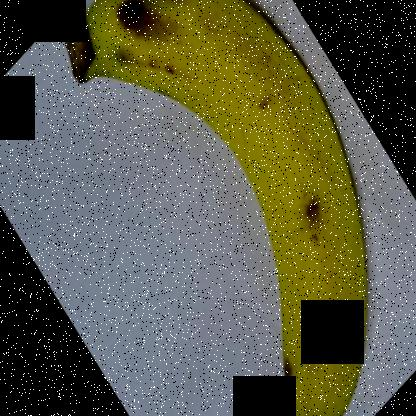freshripe: (55, 0, 392, 415)
